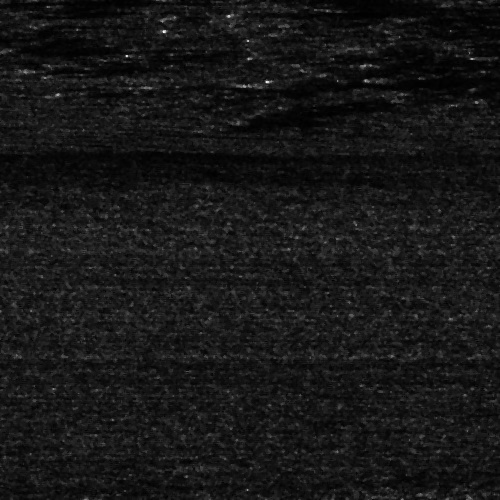object: (233, 76, 286, 91), (347, 74, 400, 79), (461, 53, 500, 58)
shadow: (260, 76, 500, 91), (0, 0, 145, 14), (374, 74, 500, 79), (0, 121, 22, 128)
